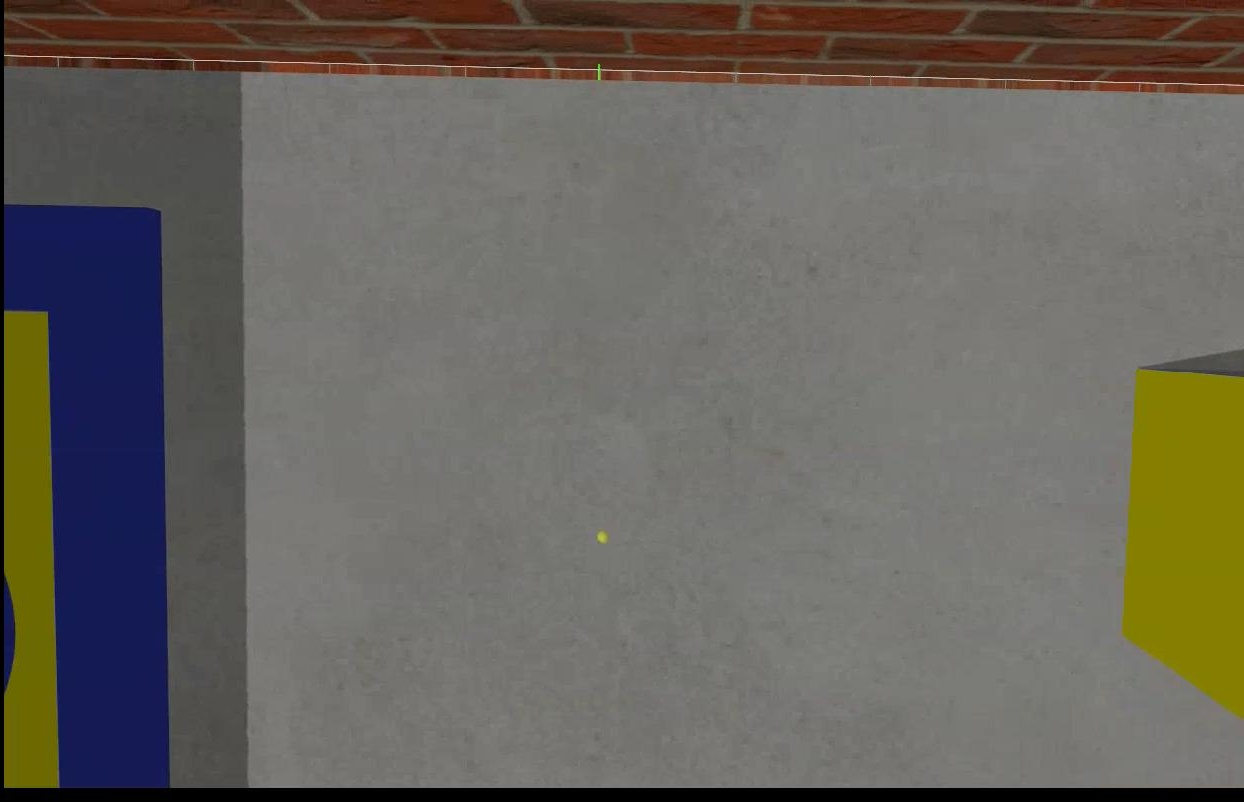large_base: (0, 199, 169, 789)
